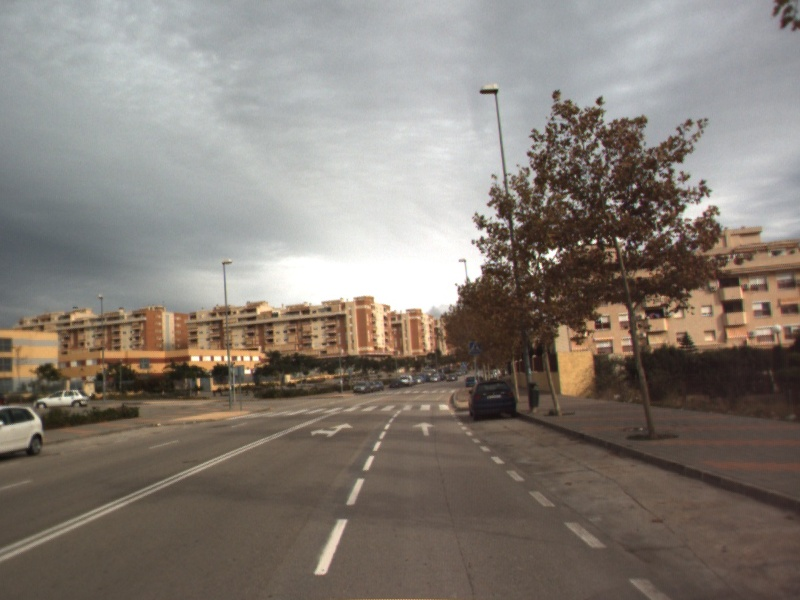STRAIGHT: (411, 420, 438, 437)
STRAIGHT_LEFT: (309, 421, 355, 439)
